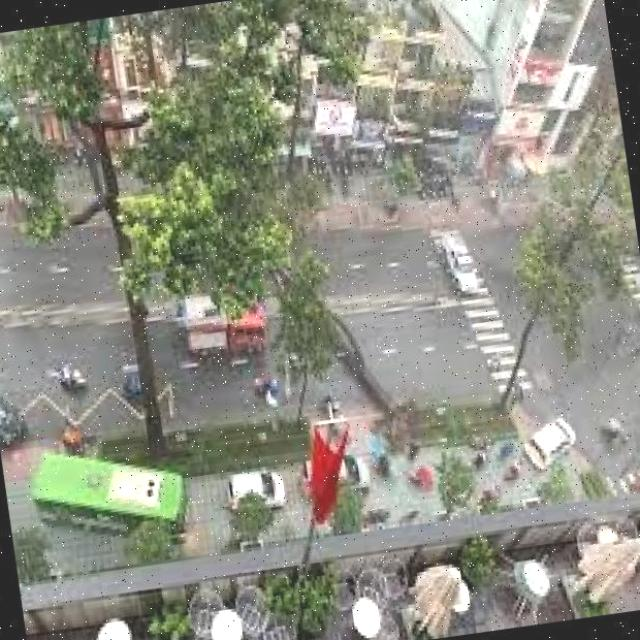fallen_object: (259, 232, 427, 468)
